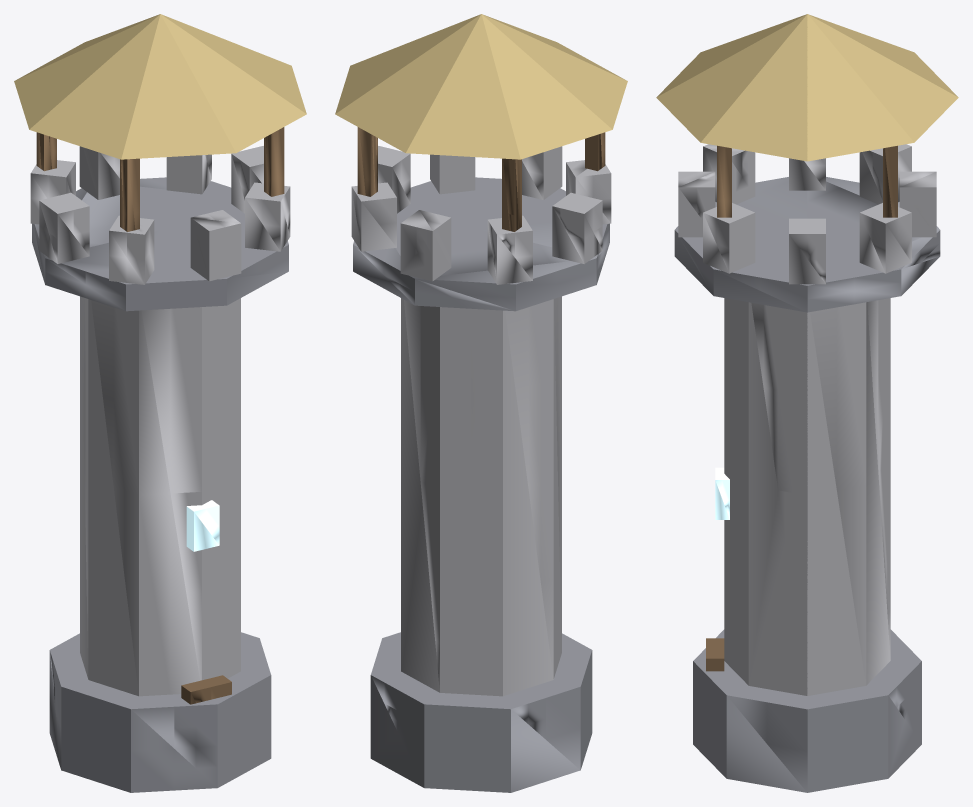
Rendered from watchtower.glb.
3 renders of one model, left to right at view 1: azimuth 30°, elevation 25°; view 2: azimuth 150°, elevation 25°; view 3: azimuth 270°, elevation 25°, orthographic.
Visible parts, largest first — view 1: TowerBase; view 2: TowerBase; view 3: TowerBase.
Boxes of the visible parts, box(x1,y1,x2,y2) form: TowerBase: box(14, 14, 306, 792); TowerBase: box(335, 14, 627, 792); TowerBase: box(656, 14, 958, 792).
Size of the model in its own units: 1.64 by 4.37 by 1.64.
